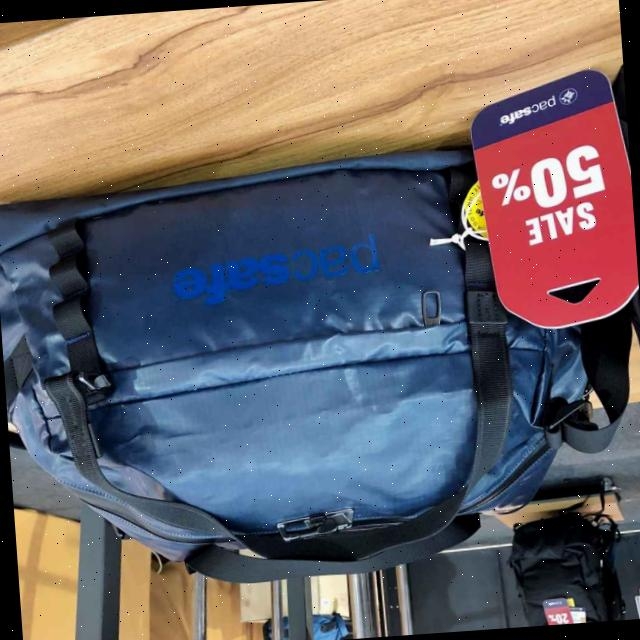Handbag: (0, 111, 612, 594)
